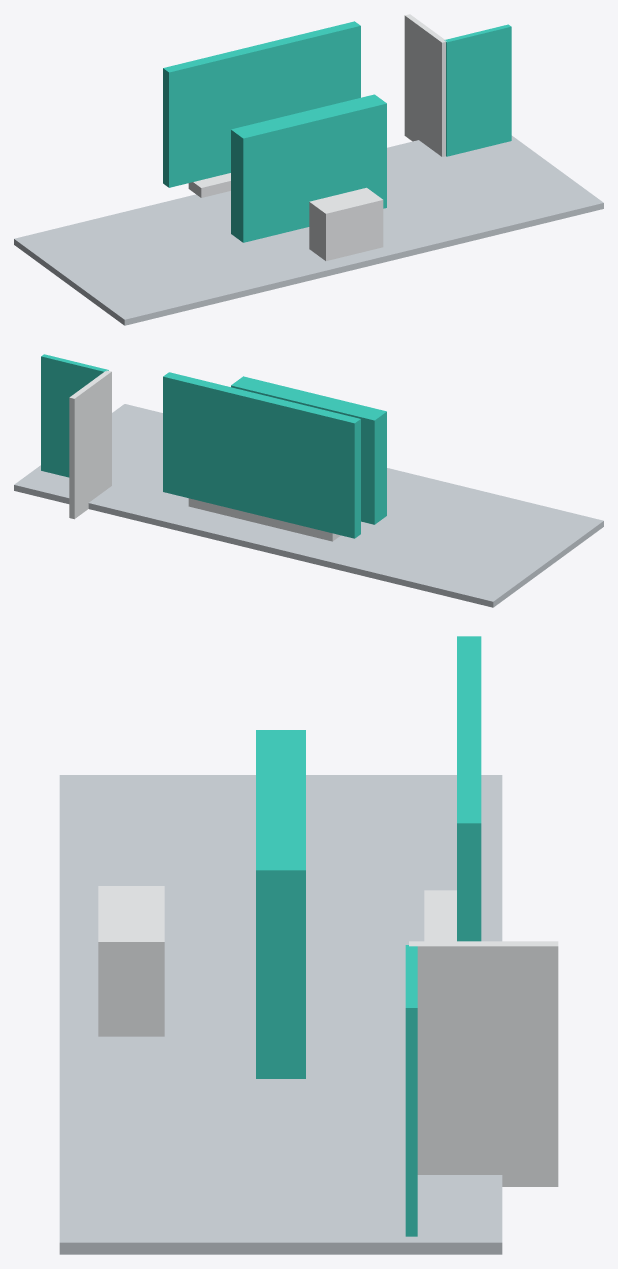
3 renders of one model, top to bottom at view 1: azimuth 30°, elevation 25°; view 2: azimuth 150°, elevation 25°; view 3: azimuth 270°, elevation 25°, orthographic. The views are drawn at different scales.
Visible parts, largest first — view 1: Exhibition Booth Concept; view 2: Exhibition Booth Concept; view 3: Exhibition Booth Concept.
Part boxes in pixels (<box>): Exhibition Booth Concept: <box>14,14,603,325</box>; Exhibition Booth Concept: <box>14,354,603,607</box>; Exhibition Booth Concept: <box>59,636,558,1254</box>.
Bounding box in the file's own units: 10 × 2.9 × 4.51.
